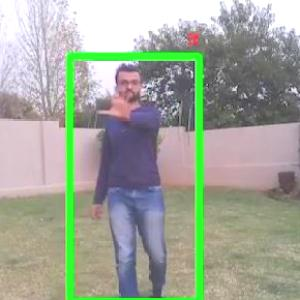follow_hand: (96, 78, 143, 123)
